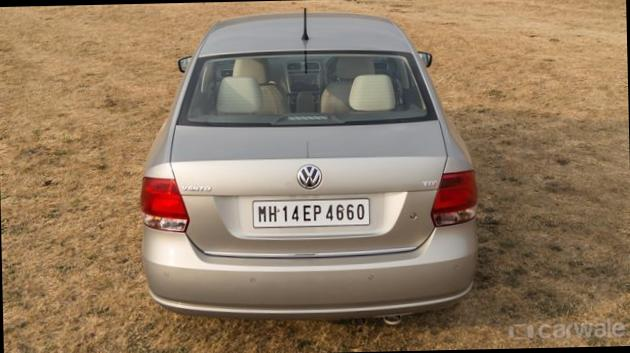plate: (251, 185, 376, 235)
